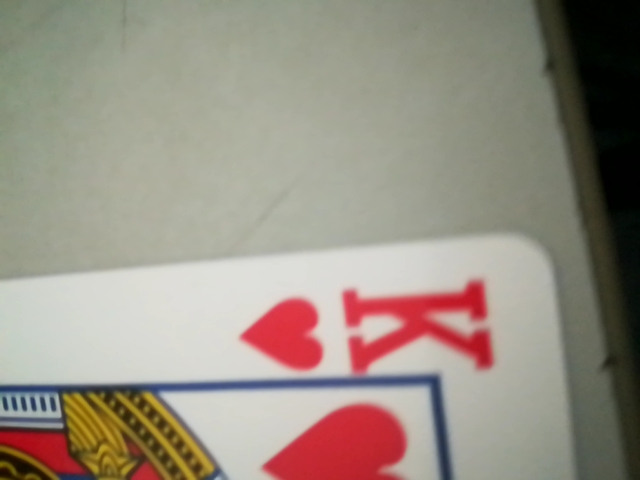hx k: (240, 269, 496, 386)
